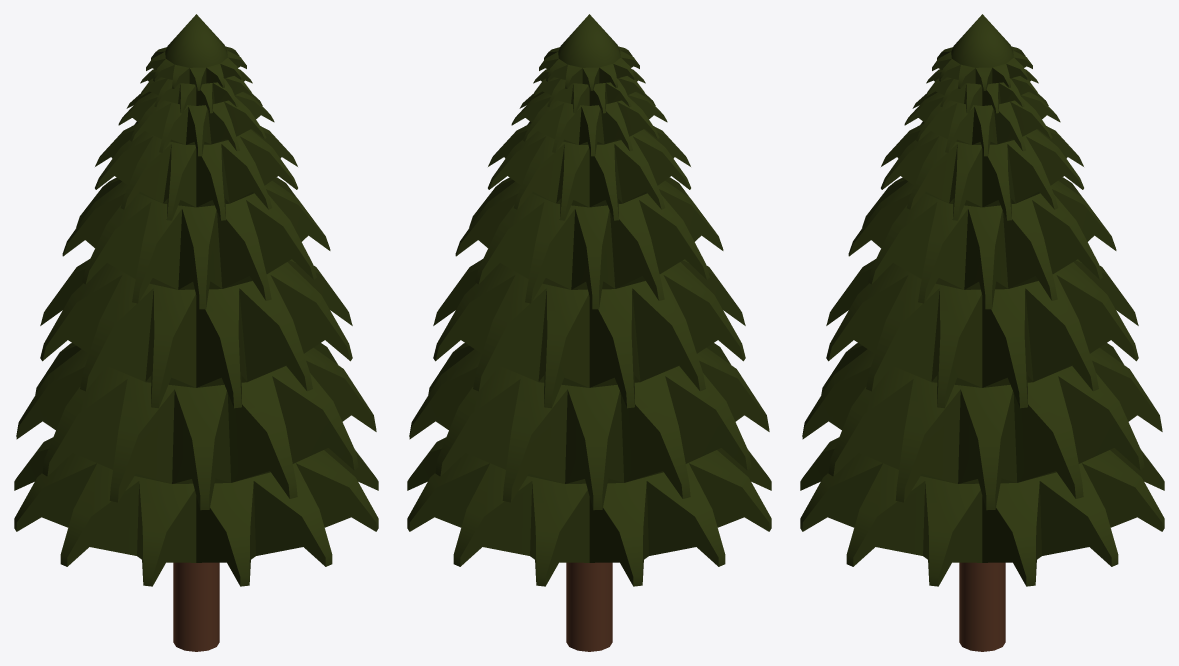
The model's file is PineTreeM_20210127.fbx.
3 views of the same model, side by side, from view 1: azimuth 30°, elevation 25°; view 2: azimuth 150°, elevation 25°; view 3: azimuth 270°, elevation 25° (orthographic).
Visible parts, largest first — view 1: Tree.001; view 2: Tree.001; view 3: Tree.001.
Boxes of the visible parts, left/top/right/bottom form: Tree.001: left=14, top=14, right=378, bottom=651; Tree.001: left=407, top=14, right=771, bottom=651; Tree.001: left=800, top=14, right=1164, bottom=651.
Bounding box in the file's own units: 1.18 × 2.24 × 1.18.
